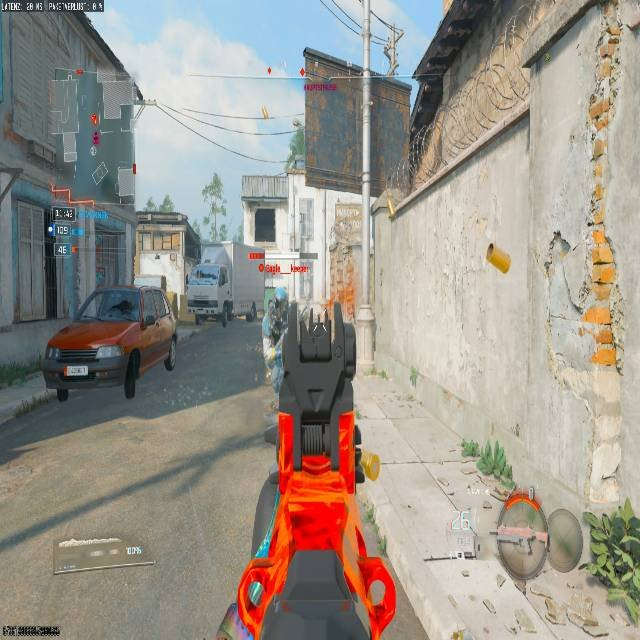head: (270, 285, 288, 304)
player: (261, 281, 290, 374)
